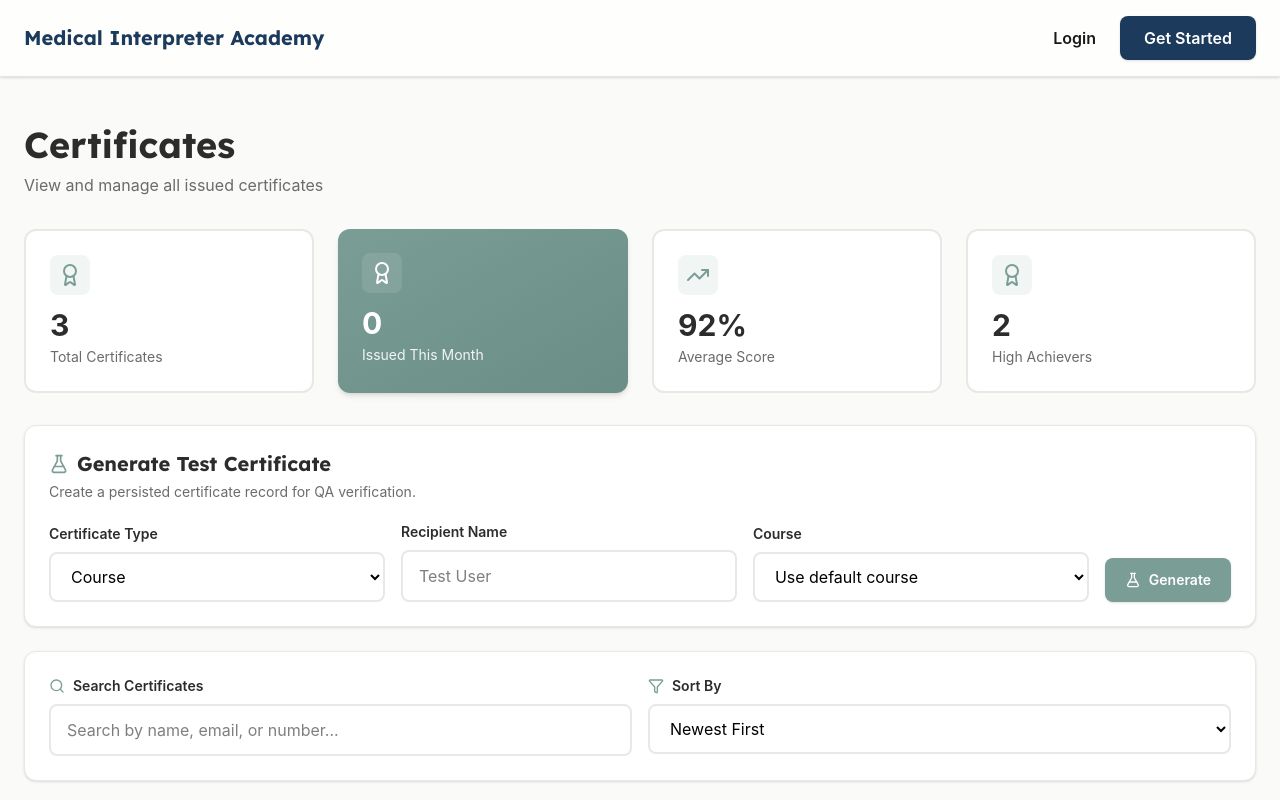
Test: AdminCertificates Page › Results Summary › should update summary when filtered
Step 1. Type "Jane" into the field with placeholder "Search by name, email, or number..." → (340, 730), box [49, 704, 632, 756]
(page scrolled)
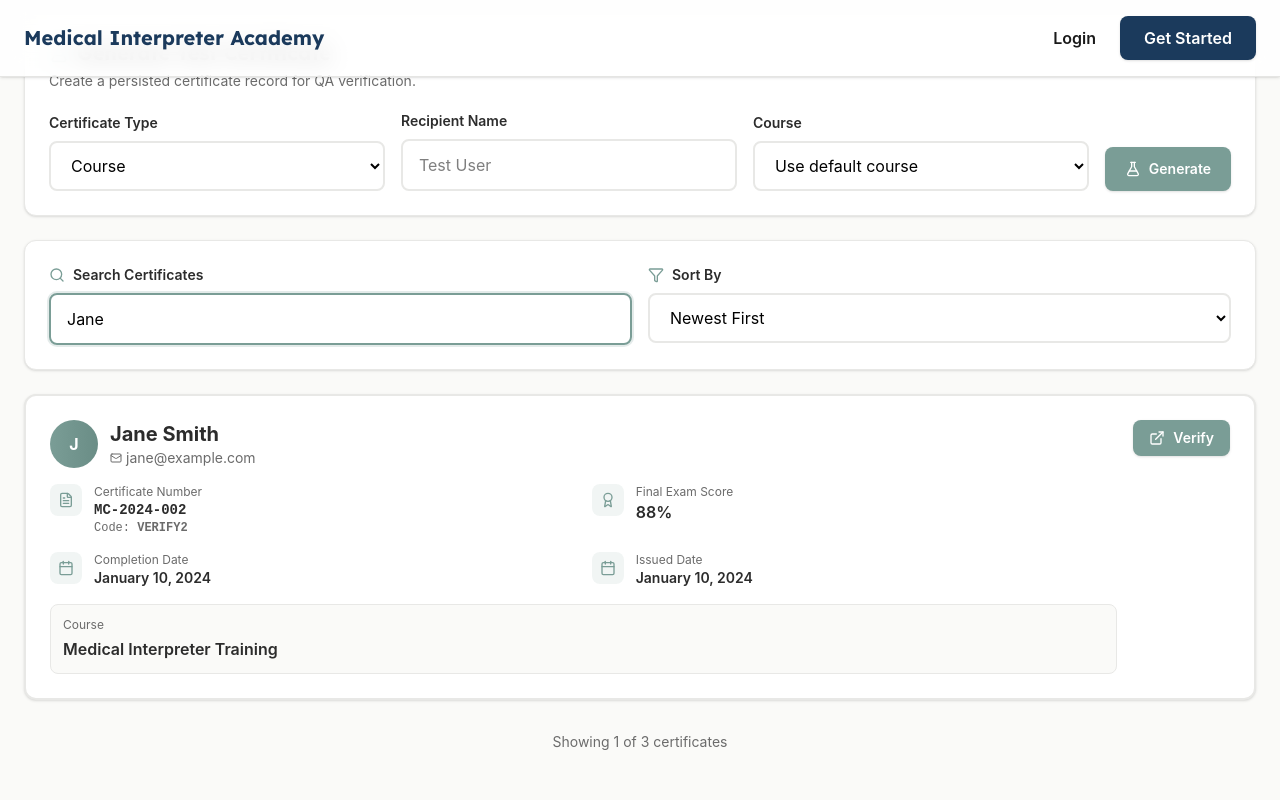
Expected: the text "Showing 1 of 3 certificates" is shown, [552, 733, 728, 750]
